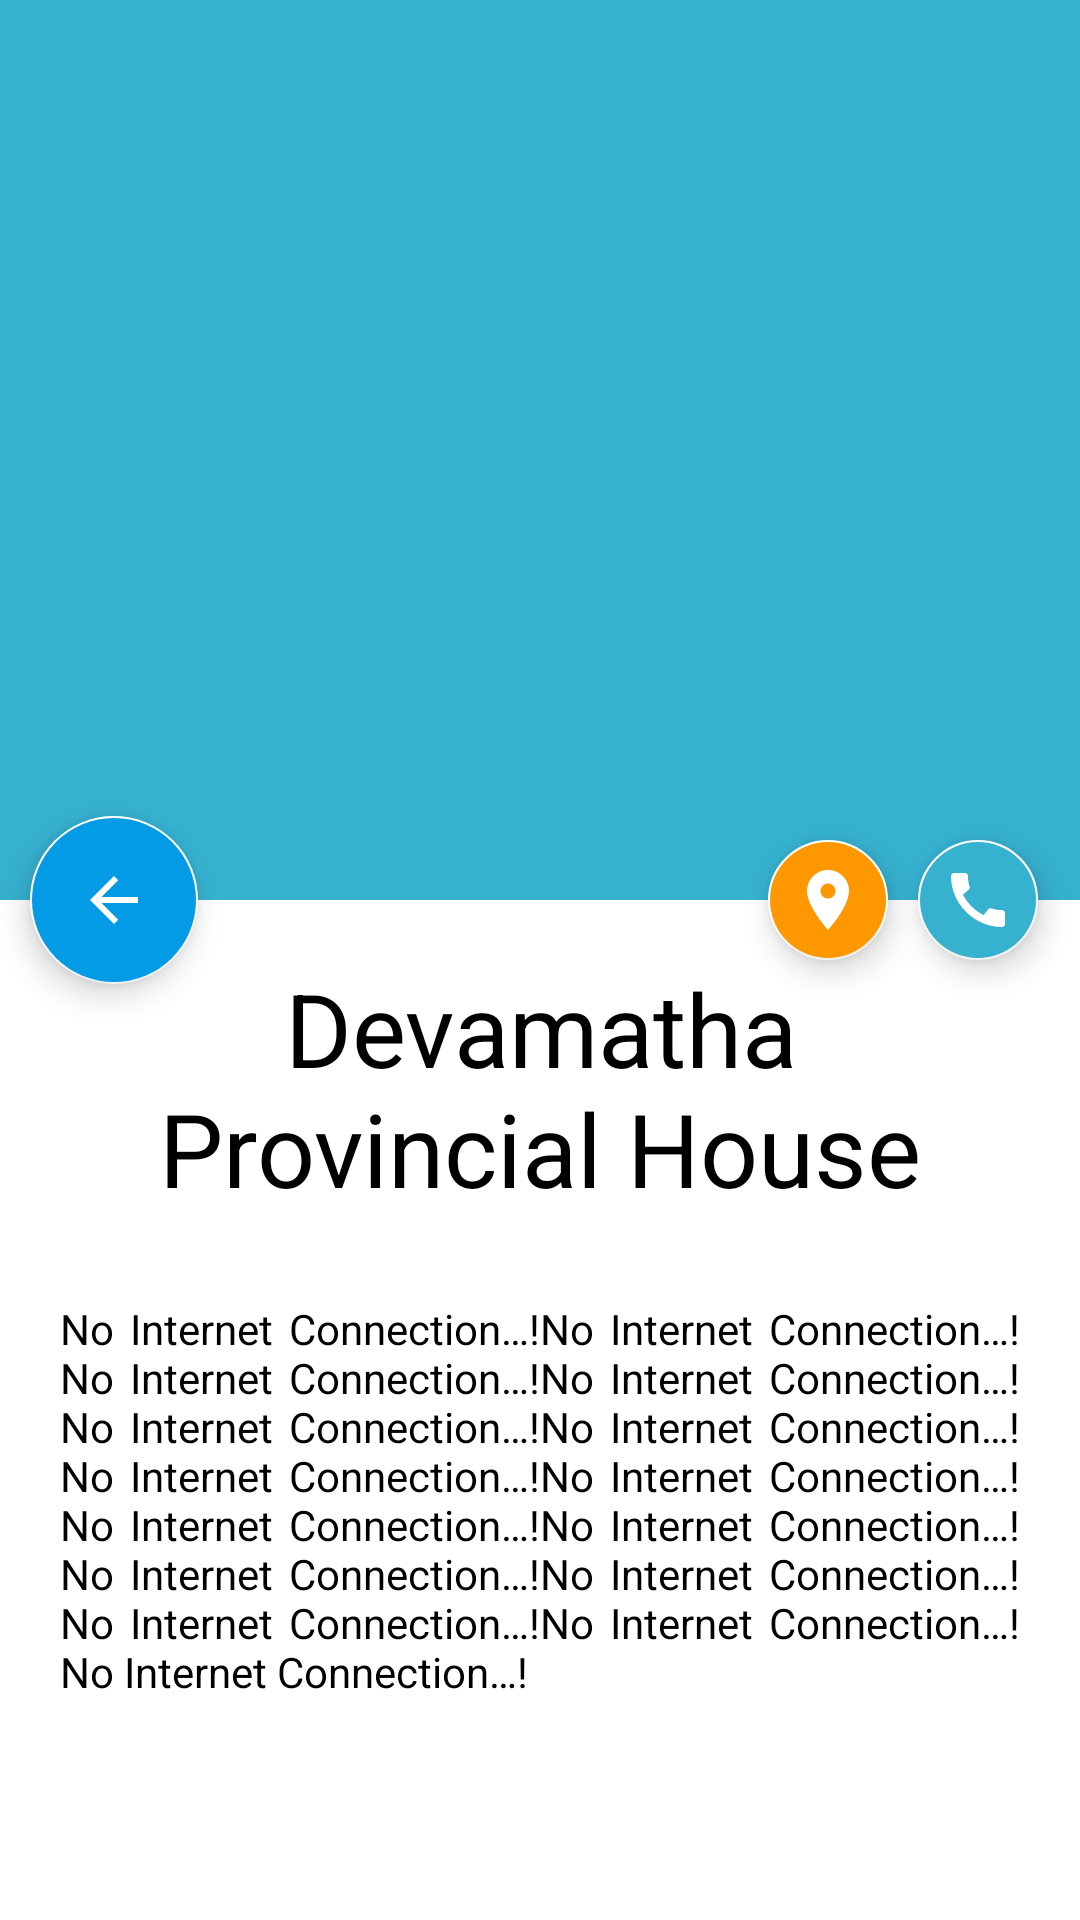

Icon click points for this 1080w x 1920h phone screenshot, format point (x, y):
arrow backtoresult: point (114, 900)
call result: point (978, 900)
location result: point (828, 900)
